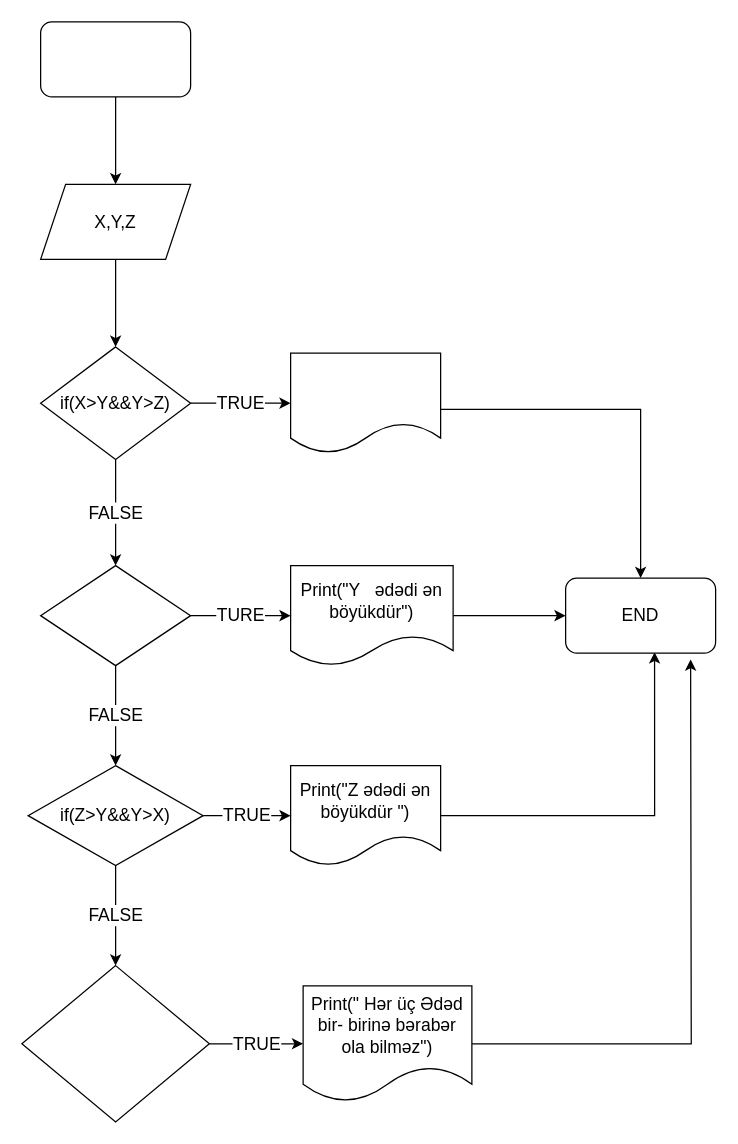
Some shapes in this 738 by 1144 pixel diagram are drawn without their labels. Here are the shapes that lost their labels. From the top down, the centre of each, then its label:
(x=115, y=59): START
(x=365, y=402): Print("X ədədi ən böyükdür ")
(x=115, y=615): if(Y>X&&X>Z)
(x=115, y=1043): else if(X==Y&&Y==Z)
